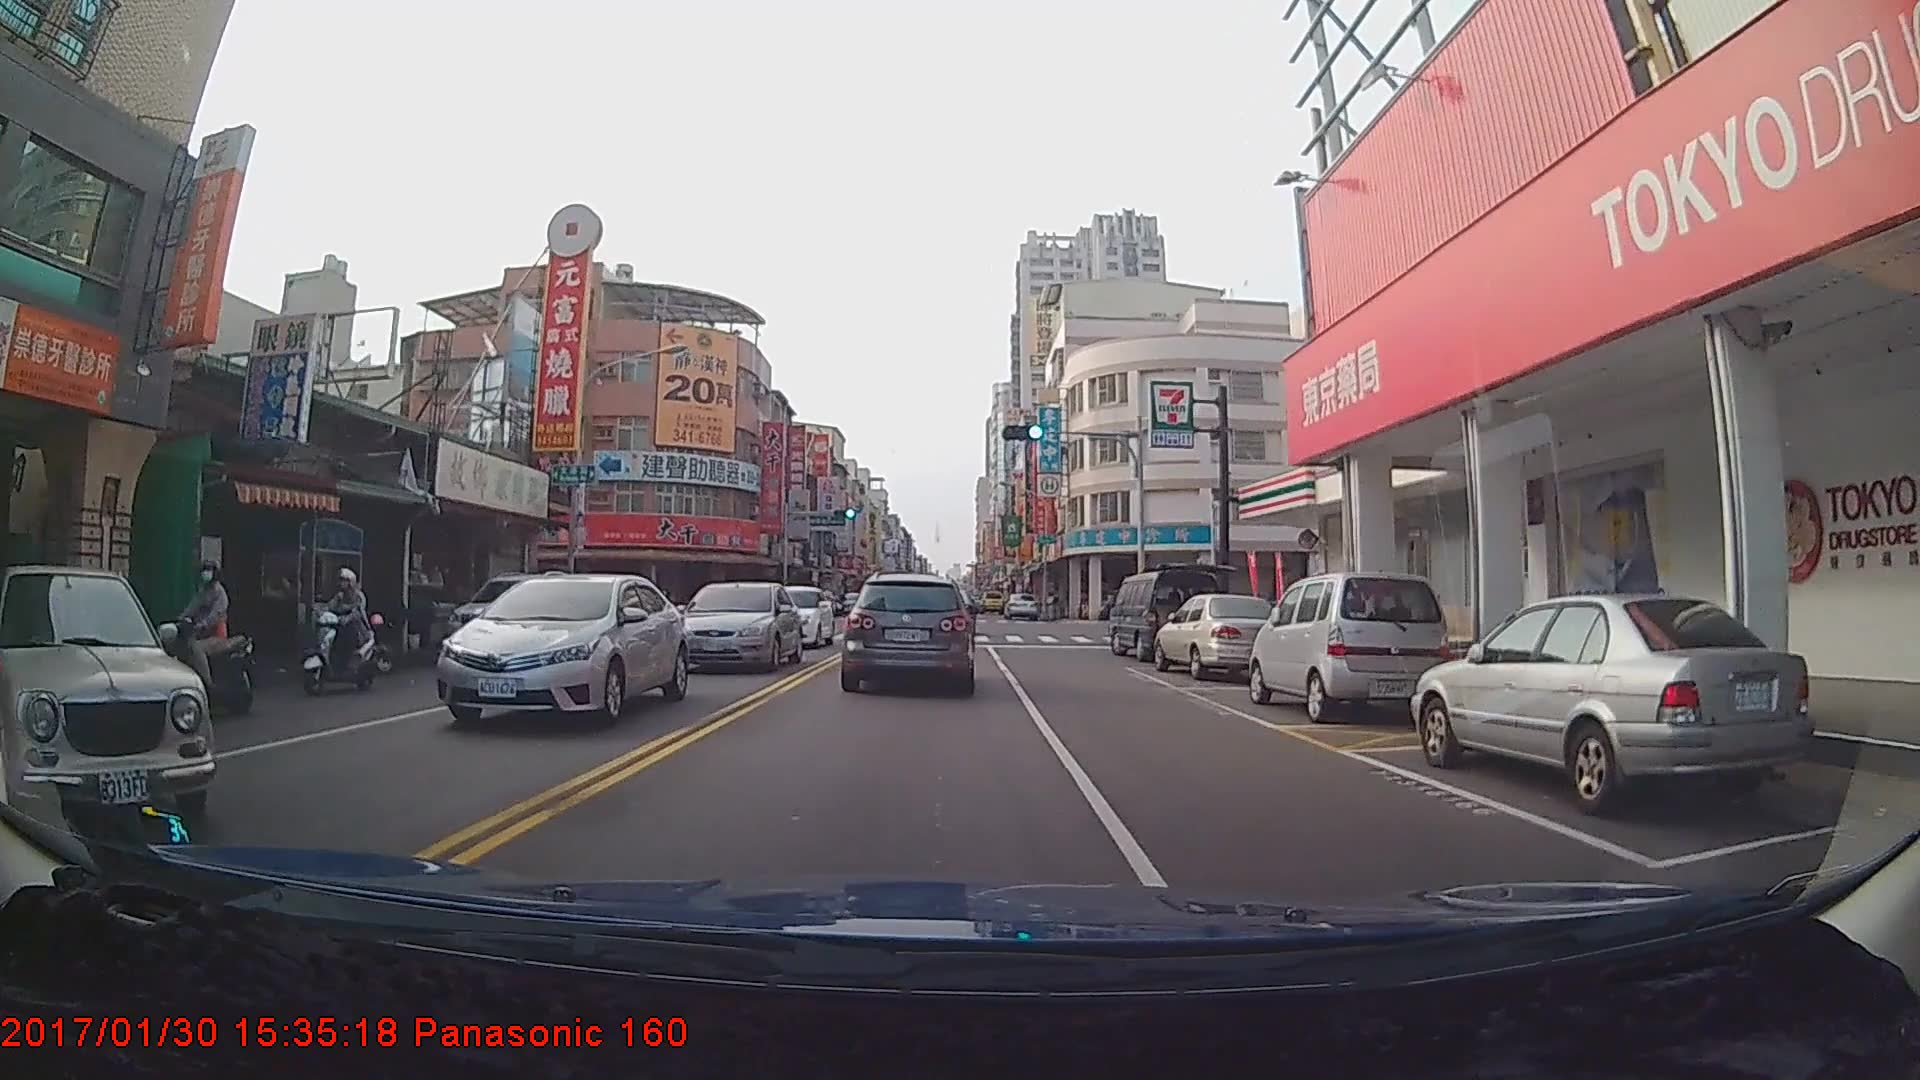rider: (147, 556, 258, 717), (293, 565, 388, 694)
vehicle: (1413, 590, 1812, 815), (1, 566, 217, 826), (430, 571, 686, 736), (1249, 570, 1447, 724), (845, 572, 973, 692), (1153, 593, 1288, 683), (673, 581, 802, 674), (446, 569, 575, 660), (1109, 574, 1224, 659), (752, 585, 836, 647), (1000, 592, 1039, 619)
